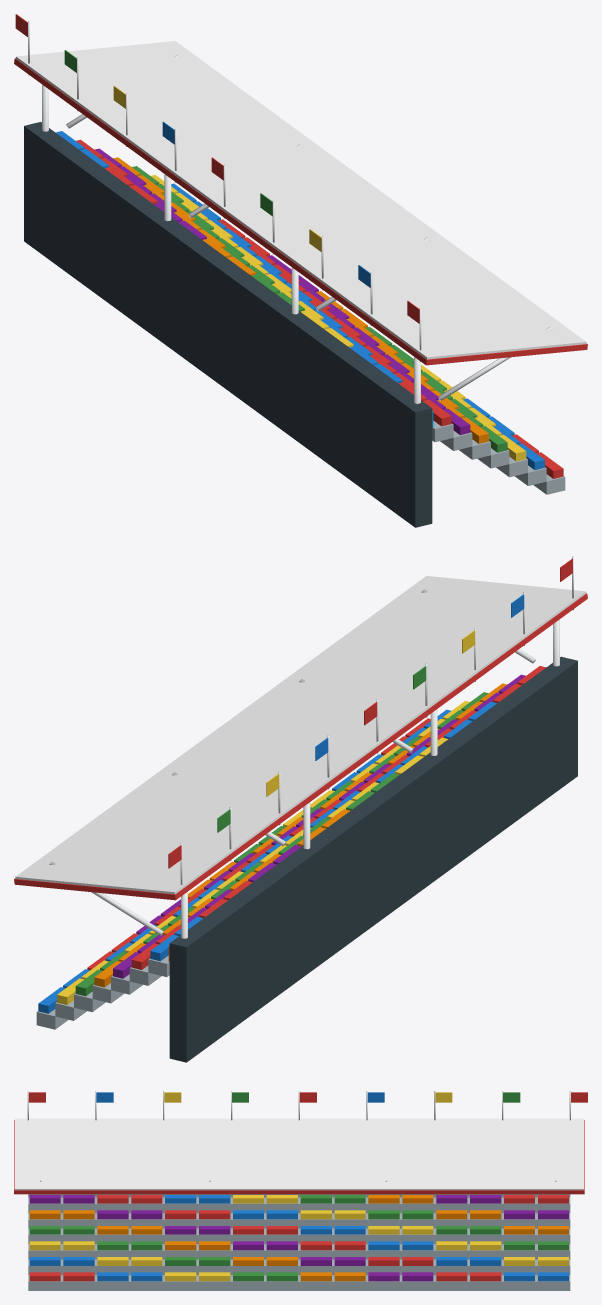
Rendered from Grandstand.glb.
3 views of the same model, one above another, from view 1: azimuth 30°, elevation 25°; view 2: azimuth 150°, elevation 25°; view 3: azimuth 270°, elevation 25° (orthographic). The views are drawn at different scales.
Visible parts, largest first — view 1: Grandstand; view 2: Grandstand; view 3: Grandstand.
Boxes of the visible parts, x1,y1,x2,y2 form: Grandstand: [14, 14, 587, 527]; Grandstand: [14, 556, 587, 1062]; Grandstand: [14, 1091, 587, 1290].
Size of the model in its own units: 9.57 by 12.3 by 42.35.
